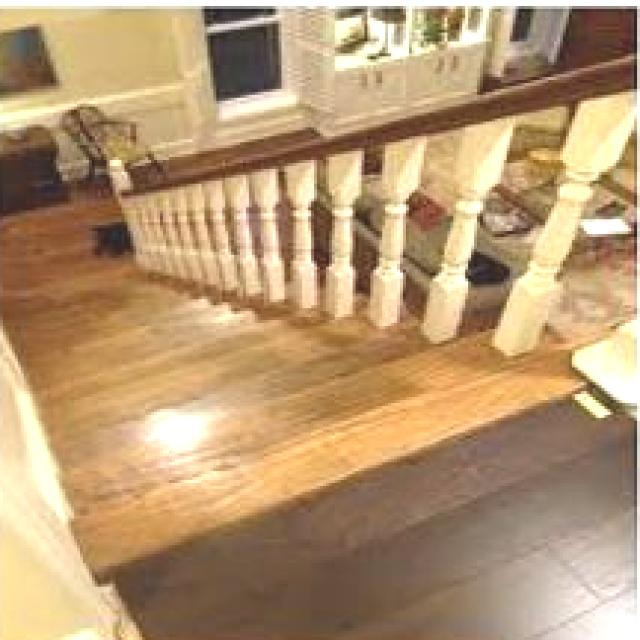downstair: (58, 342, 452, 537)
